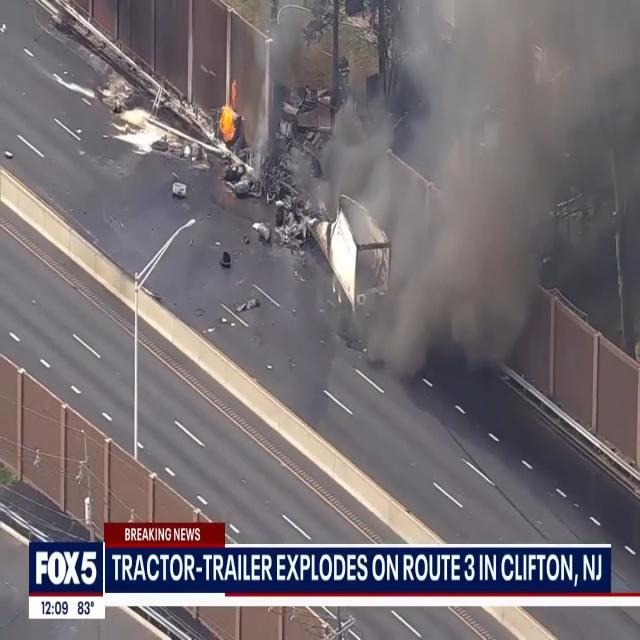fire: (213, 82, 244, 148)
